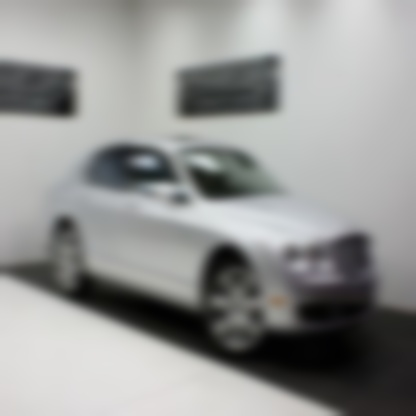Vehicle: (42, 138, 384, 360)
